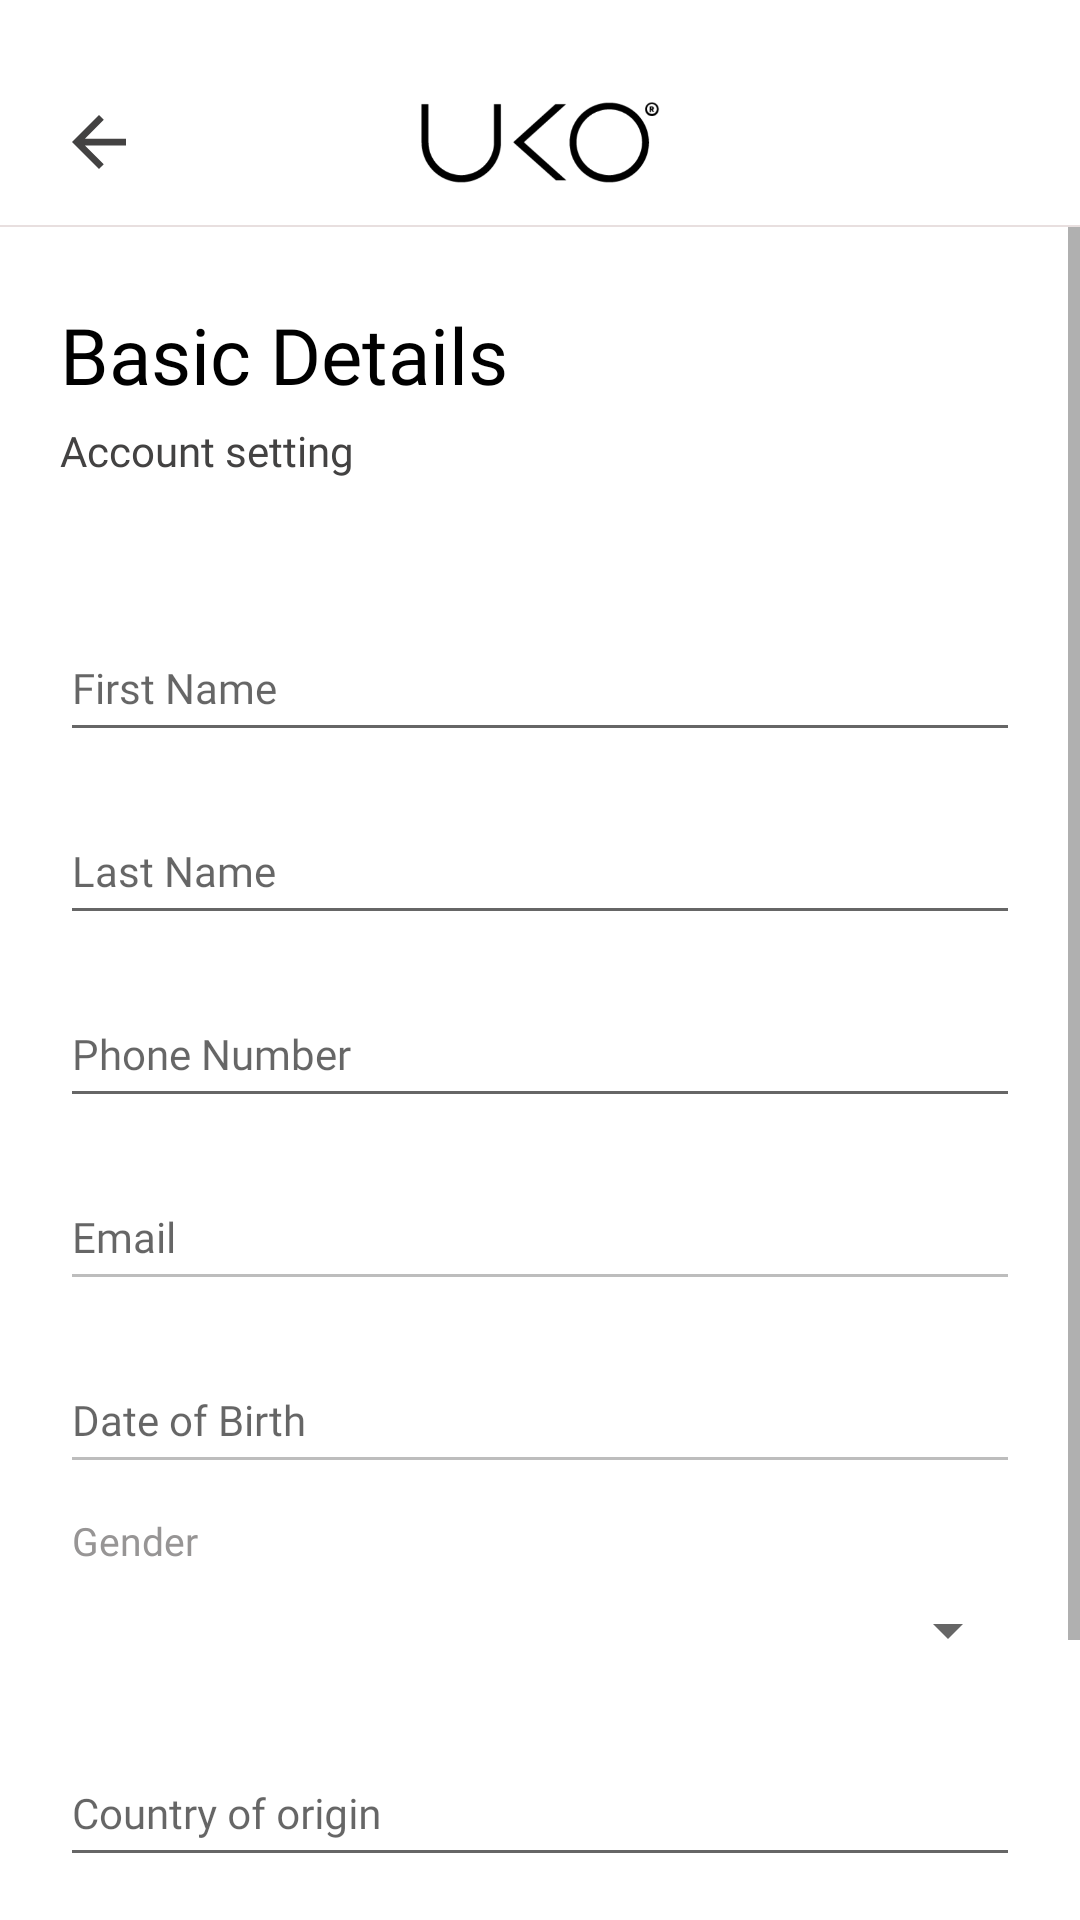

Named icons in this screenshot (1080px×1920px) and their centers, (x,y):
arrow back: (99,142)
